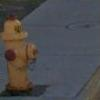Hydrant: (3, 11, 46, 99)
